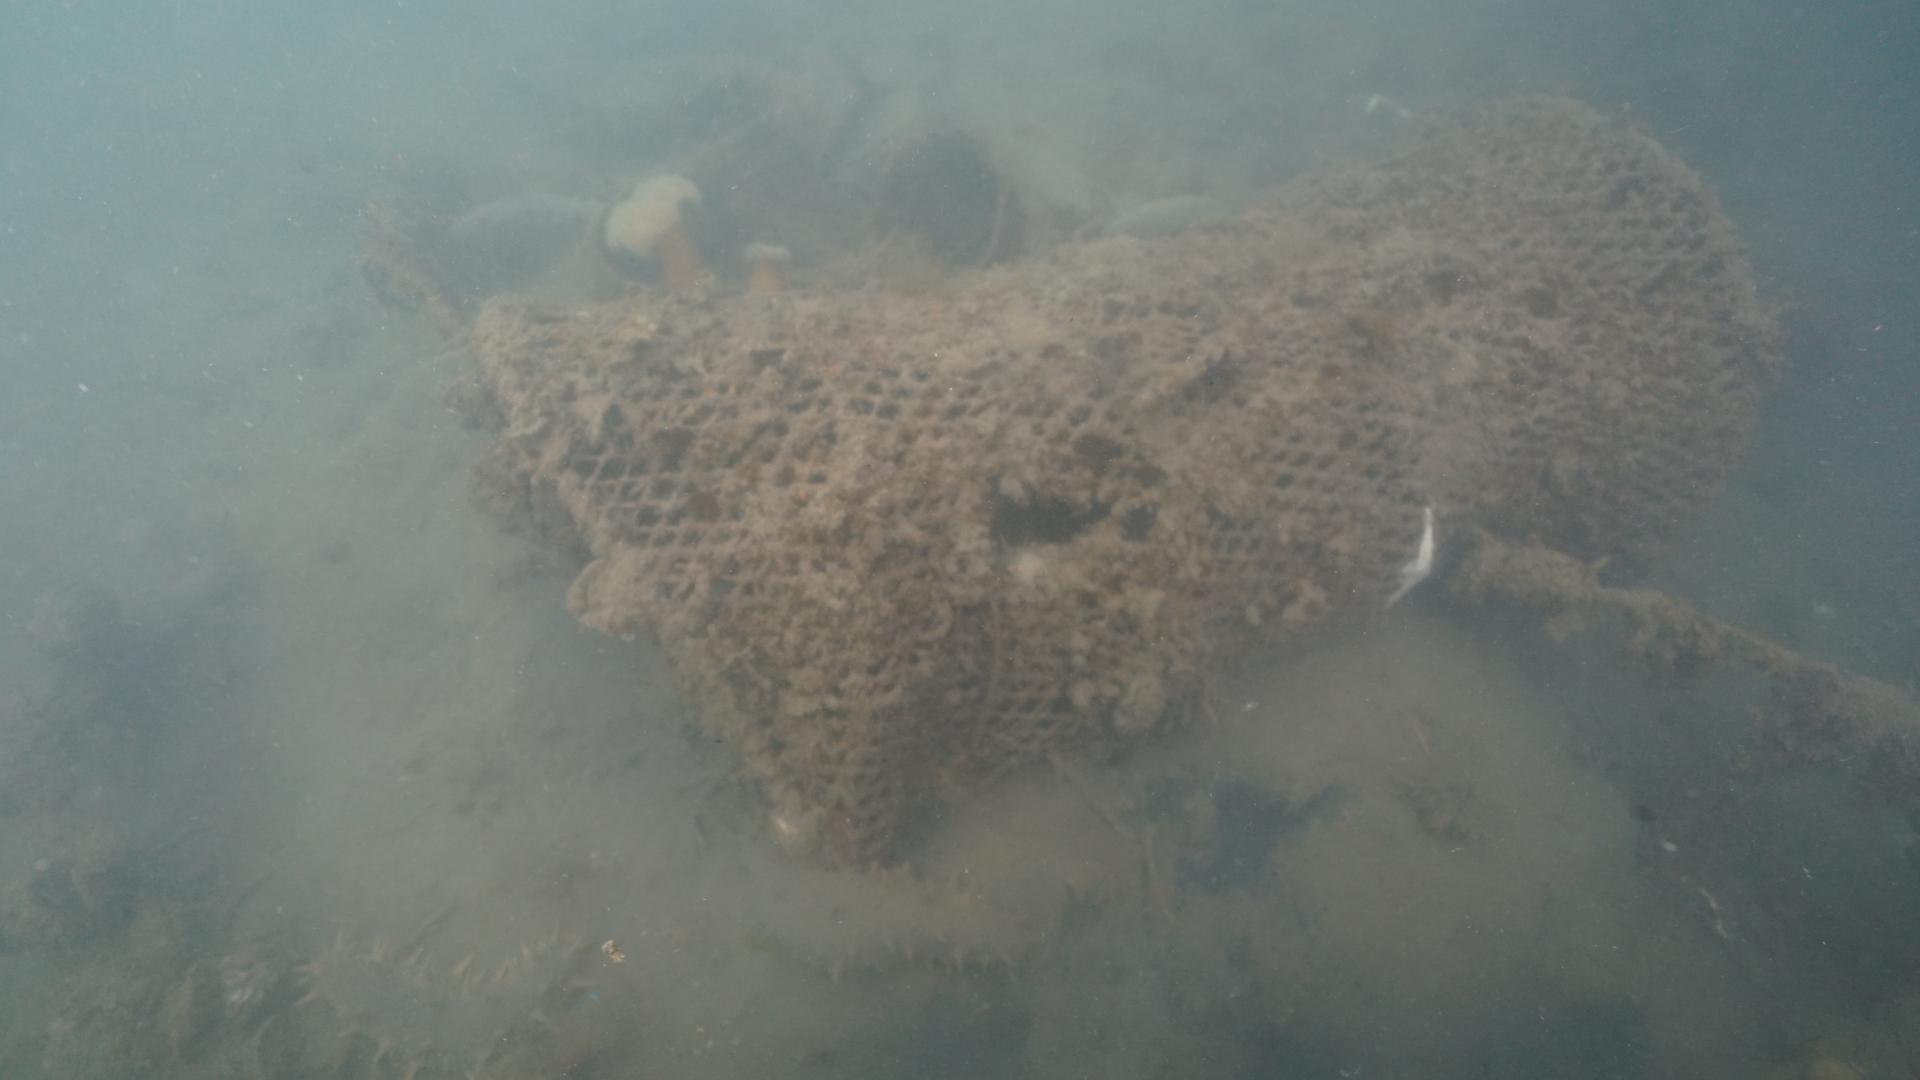spring fish trap: (456, 88, 1782, 872)
